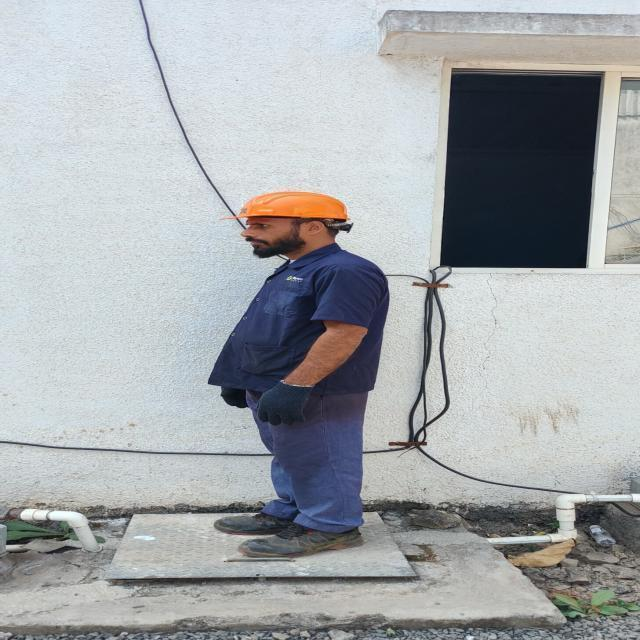gloved_hand: (254, 378, 316, 427)
